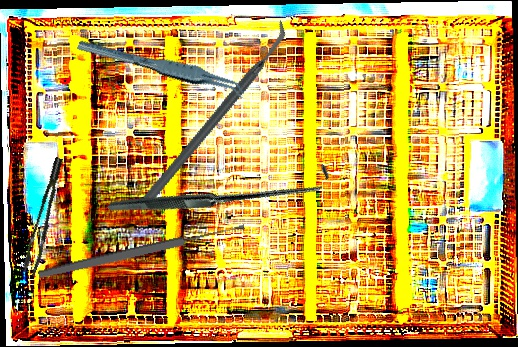Chopper: (96, 20, 330, 209)
Hook Surgical: (107, 77, 333, 302)
Surgical Spoon: (37, 221, 246, 281)
Tissue Forceps: (76, 20, 248, 115), (11, 156, 79, 277)
